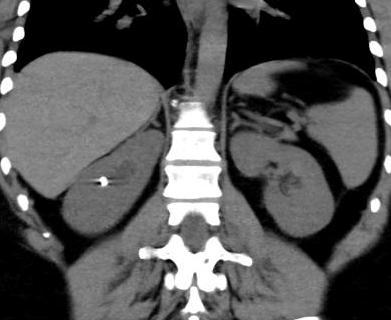Tas_Var: (99, 175, 109, 188)
